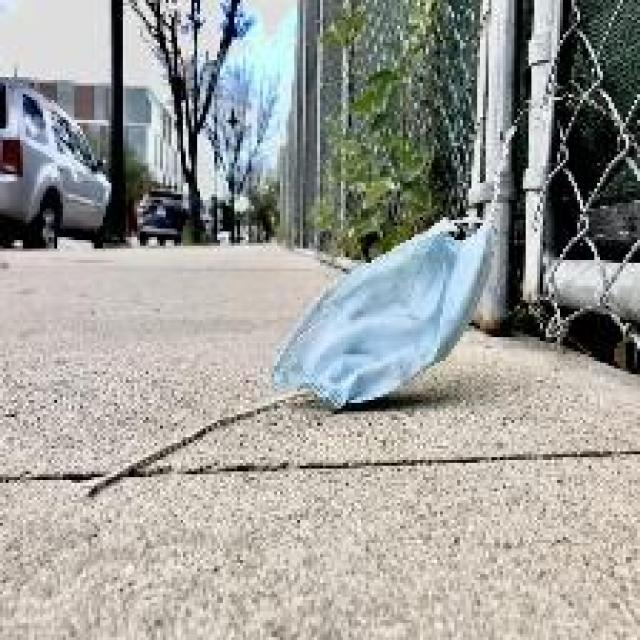Mask: (250, 189, 514, 412)
